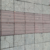others: (1, 10, 49, 35)
